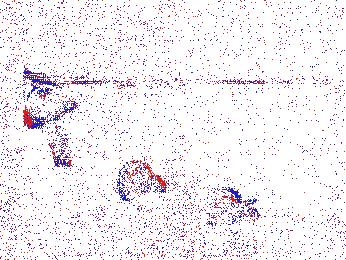flame jellyfish: (25, 83, 76, 168), (204, 187, 261, 229), (116, 160, 169, 205)
